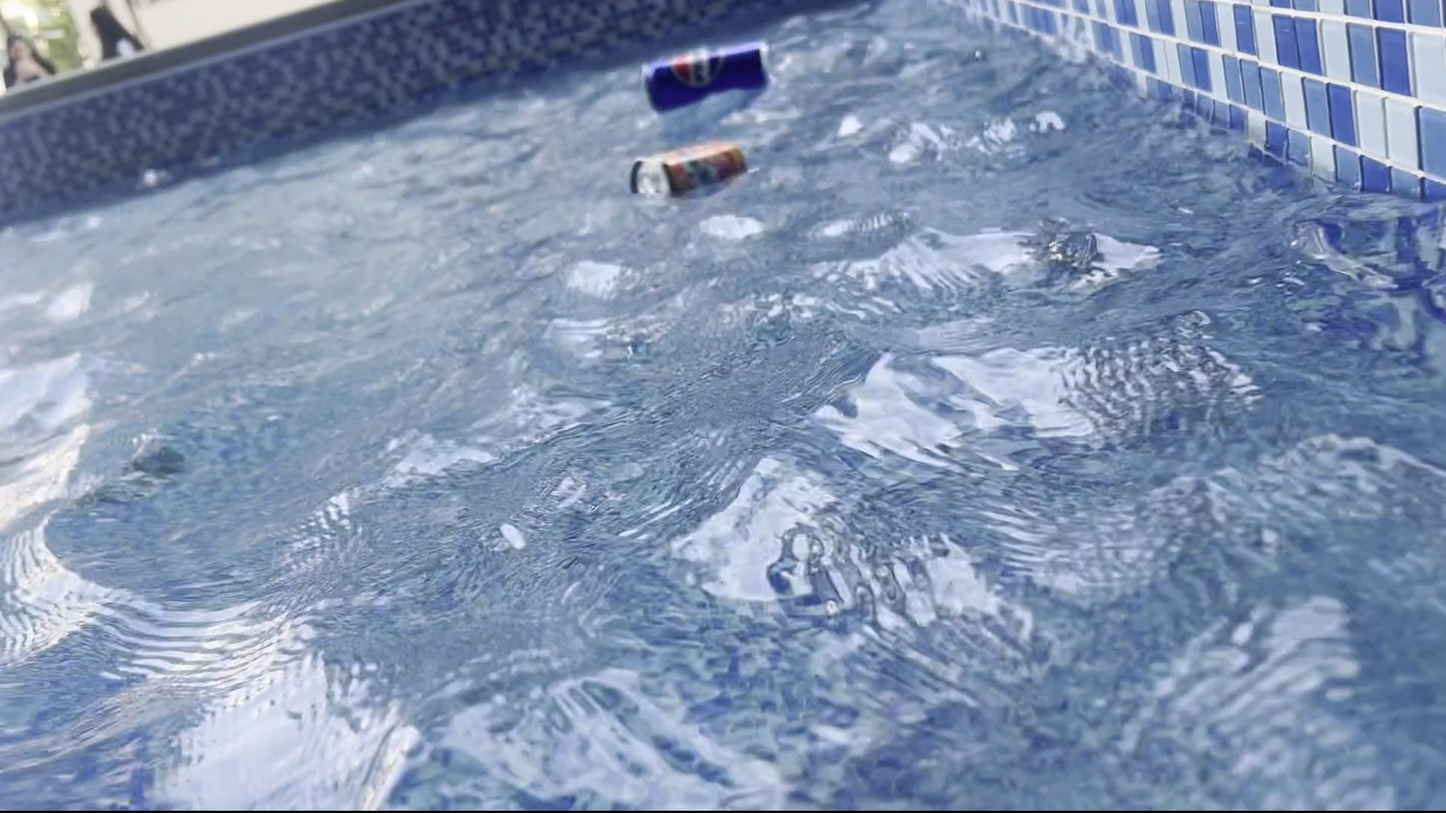debris: (641, 31, 777, 120), (620, 139, 754, 206)
